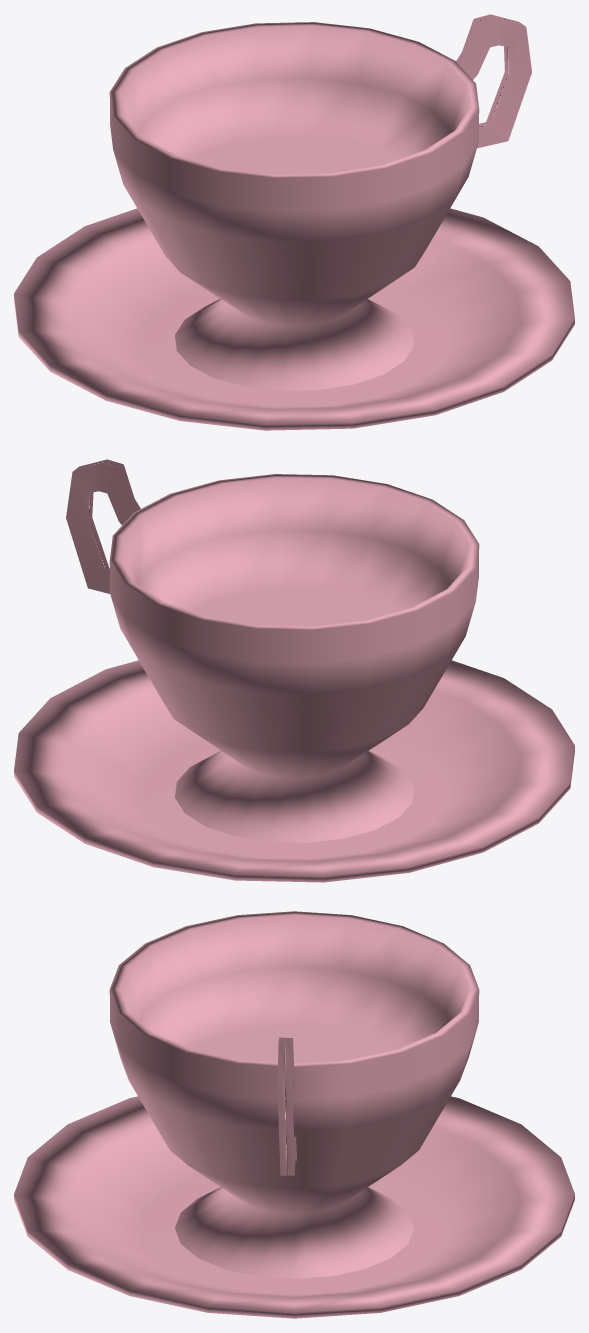
The model's file is TeaCup.fbx.
3 views of the same model, one above another, from view 1: azimuth 30°, elevation 25°; view 2: azimuth 150°, elevation 25°; view 3: azimuth 270°, elevation 25° (orthographic).
Parts seen in each view (by area): view 1: TeaCup; view 2: TeaCup; view 3: TeaCup.
Part boxes in pixels (bbox=[...]): TeaCup: bbox=[14, 14, 574, 430]; TeaCup: bbox=[14, 459, 574, 882]; TeaCup: bbox=[14, 911, 574, 1318].
Size of the model in its own units: 19.04 by 10.79 by 19.04.
